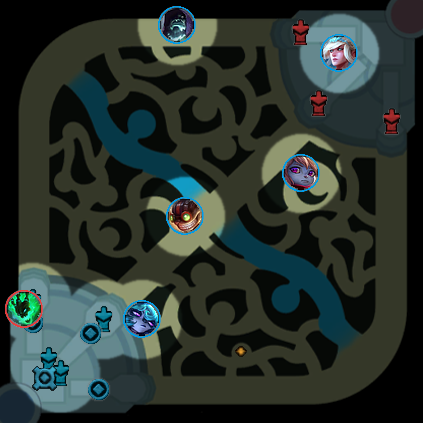Janna: (320, 34, 358, 72)
Poppy: (282, 154, 320, 192)
Thresh: (5, 290, 43, 328)
Vex: (123, 300, 161, 338)
Yorick: (158, 6, 196, 44)
Ziggs: (166, 197, 204, 235)
